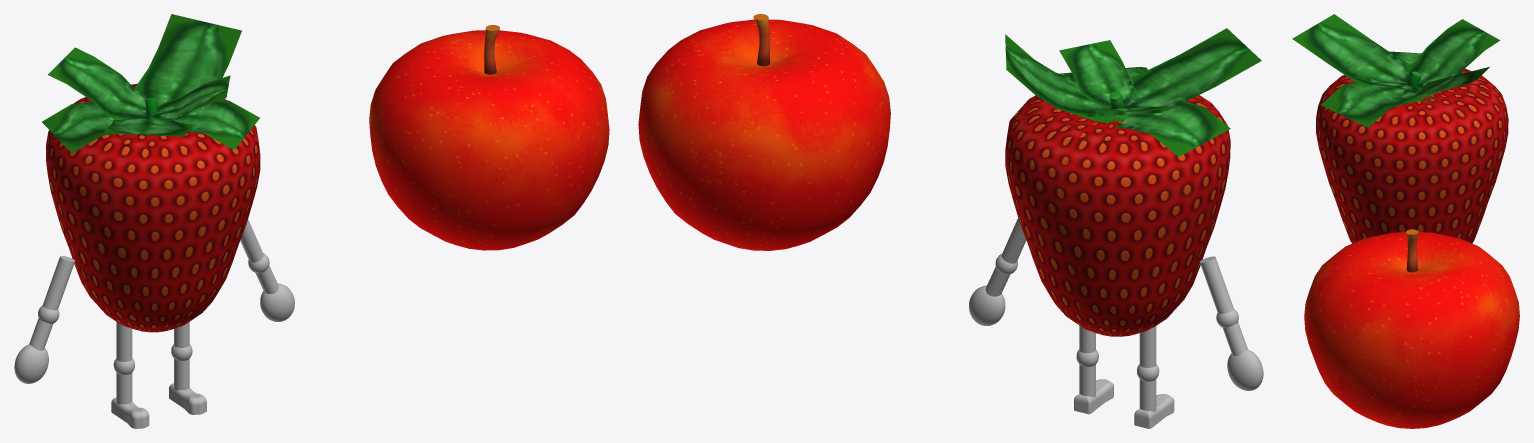
The model's file is StrawberryUVd.fbx.
The picture shows the model from 3 angles, left to right: view 1: azimuth 30°, elevation 25°; view 2: azimuth 150°, elevation 25°; view 3: azimuth 270°, elevation 25°; orthographic projection. The views are drawn at different scales.
Visible parts, largest first — view 1: apple_msh01, strawberry2, pPlane8, pPlane9, pPlane13, pPlane12, pasted__pSphere3 (×2), pPlane18, pPlane11, pCube1 (×2), pPlane10, pPlane17 (+5 smaller); view 2: apple_msh01, strawberry2, pPlane10, pPlane12, pPlane11, pPlane8, pasted__pSphere3 (×2), pCube1 (×2), pPlane15, pPlane16, pasted__pCylinder3, pPlane19 (+3 smaller); view 3: apple_msh01, strawberry2, pPlane10, pPlane9, pPlane13, pPlane15, pPlane17, pPlane8, pPlane14, pPlane11, pPlane18, pPlane12.
Boxes of the visible parts, left/top/right/bottom form: apple_msh01: left=369, top=25, right=609, bottom=250; strawberry2: left=46, top=83, right=260, bottom=332; pPlane8: left=135, top=14, right=241, bottom=106; pPlane9: left=48, top=47, right=148, bottom=119; pPlane13: left=174, top=100, right=259, bottom=149; pPlane12: left=42, top=101, right=115, bottom=153; pasted__pSphere3 (×2): left=14, top=283, right=294, bottom=383; pPlane18: left=136, top=15, right=241, bottom=105; pPlane11: left=152, top=75, right=230, bottom=121; pCube1 (×2): left=111, top=383, right=206, bottom=428; pPlane10: left=103, top=116, right=193, bottom=136; pPlane17: left=49, top=48, right=147, bottom=118; apple_msh01: left=638, top=14, right=890, bottom=250; strawberry2: left=1005, top=91, right=1230, bottom=336; pPlane10: left=1124, top=28, right=1261, bottom=114; pPlane12: left=1115, top=101, right=1230, bottom=156; pPlane11: left=1059, top=40, right=1137, bottom=108; pPlane8: left=1005, top=34, right=1115, bottom=123; pasted__pSphere3 (×2): left=969, top=285, right=1263, bottom=390; pCube1 (×2): left=1074, top=379, right=1174, bottom=428; pPlane15: left=1128, top=28, right=1259, bottom=114; pPlane16: left=1117, top=102, right=1229, bottom=156; pasted__pCylinder3: left=1199, top=256, right=1233, bottom=313; pPlane19: left=1060, top=41, right=1137, bottom=107; apple_msh01: left=1304, top=229, right=1519, bottom=428; strawberry2: left=1316, top=68, right=1508, bottom=243; pPlane10: left=1292, top=14, right=1409, bottom=87; pPlane9: left=1408, top=19, right=1499, bottom=94; pPlane13: left=1321, top=82, right=1422, bottom=127; pPlane15: left=1295, top=16, right=1408, bottom=86; pPlane17: left=1409, top=20, right=1498, bottom=93; pPlane8: left=1394, top=67, right=1489, bottom=99; pPlane14: left=1323, top=84, right=1421, bottom=127; pPlane11: left=1353, top=77, right=1420, bottom=93; pPlane18: left=1402, top=67, right=1488, bottom=99; pPlane12: left=1390, top=51, right=1421, bottom=64.
Size of the model in its own units: 6.04 by 3.45 by 2.3.
3 materials, 2 textured.
